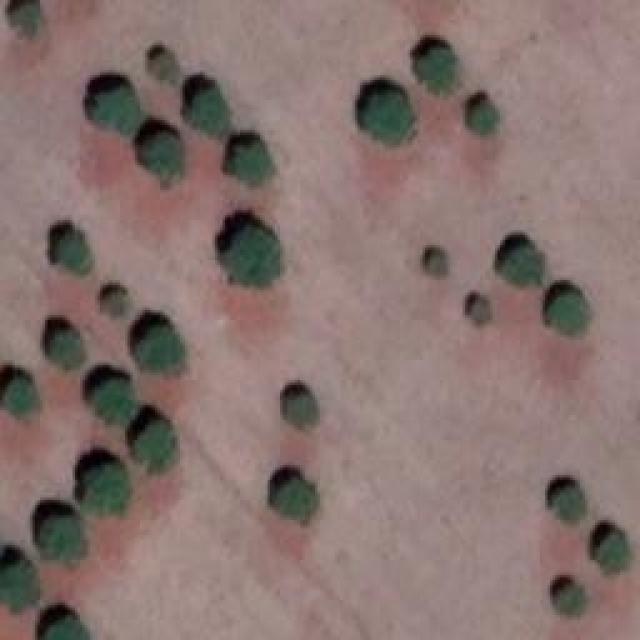Tree: (222, 225, 280, 293), (135, 320, 185, 375), (135, 418, 180, 473), (227, 138, 275, 188), (95, 83, 140, 136), (190, 83, 235, 136), (85, 458, 128, 511), (363, 95, 408, 143), (420, 43, 458, 96), (145, 133, 185, 183), (548, 290, 591, 335), (98, 375, 133, 428), (0, 558, 35, 611), (42, 510, 80, 558), (502, 245, 550, 283), (278, 473, 318, 518), (57, 230, 95, 275), (45, 325, 83, 370), (2, 378, 40, 423), (38, 615, 91, 640), (283, 393, 318, 428), (468, 98, 498, 138), (553, 583, 586, 616), (595, 538, 628, 571), (553, 493, 588, 523), (148, 47, 178, 79), (10, 0, 38, 30), (105, 285, 128, 318), (423, 245, 446, 273), (472, 295, 490, 320)
